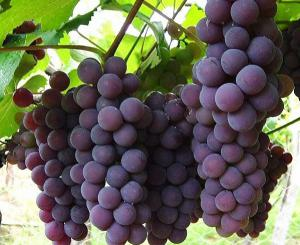Black grapes: (183, 3, 288, 240), (64, 62, 159, 245), (16, 75, 98, 245), (135, 85, 203, 245)
